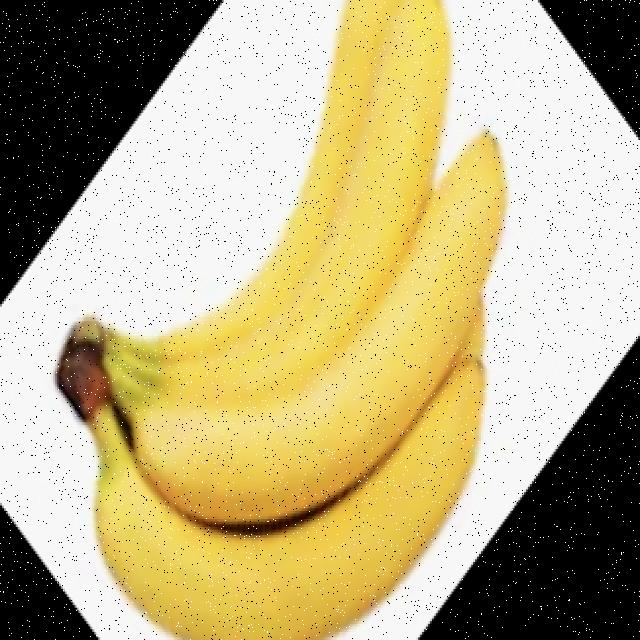god quality banana: (57, 3, 507, 637)
